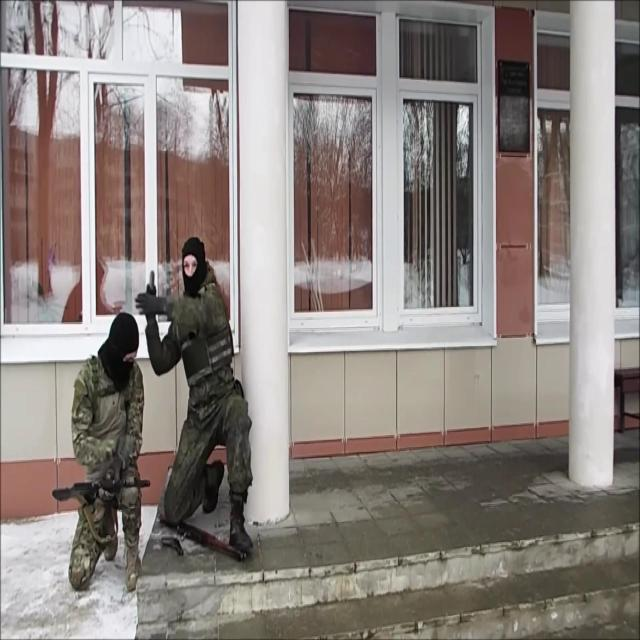pistol: (158, 504, 250, 564), (52, 473, 152, 512), (160, 532, 186, 561)
